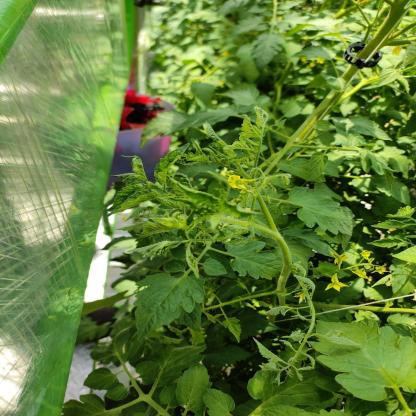T_L_H: (313, 323, 416, 416), (135, 275, 206, 340)
